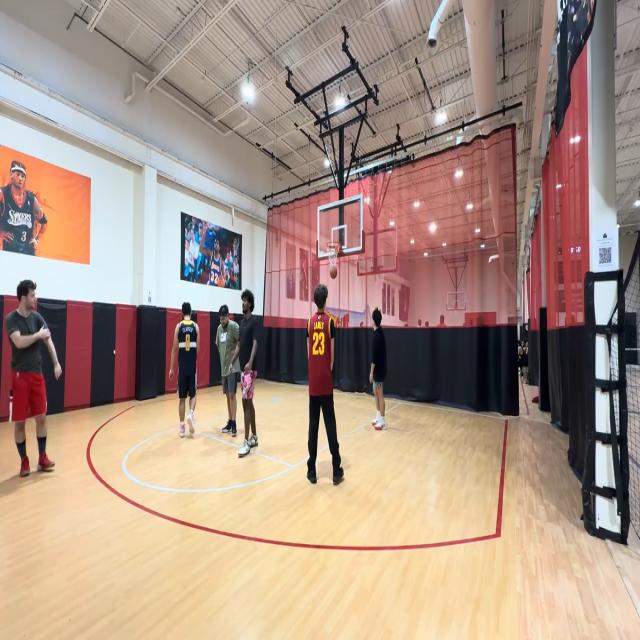Basketball: (329, 266, 337, 280)
Basketball Rim: (326, 241, 340, 269)
Player: (7, 282, 61, 478), (306, 282, 346, 490), (232, 291, 262, 457), (170, 301, 200, 443), (214, 306, 240, 442), (371, 310, 389, 434)
